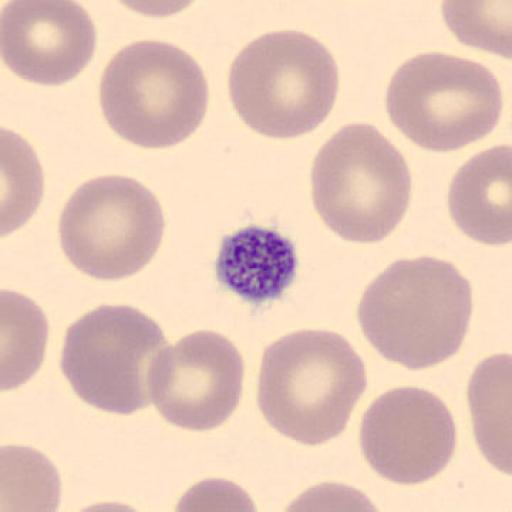Platelet: (212, 222, 301, 306)
RBC: (355, 253, 474, 372), (254, 326, 368, 448), (308, 120, 413, 244), (226, 27, 340, 141), (98, 38, 212, 152), (59, 302, 171, 417), (384, 51, 505, 154), (57, 173, 168, 283), (146, 328, 245, 434), (358, 384, 458, 488), (1, 0, 98, 87), (446, 142, 512, 248), (466, 350, 512, 478), (2, 287, 52, 393), (2, 126, 45, 238), (1, 441, 64, 512), (441, 0, 512, 59), (277, 479, 386, 512), (170, 475, 262, 512), (108, 0, 208, 20), (62, 498, 160, 512)
